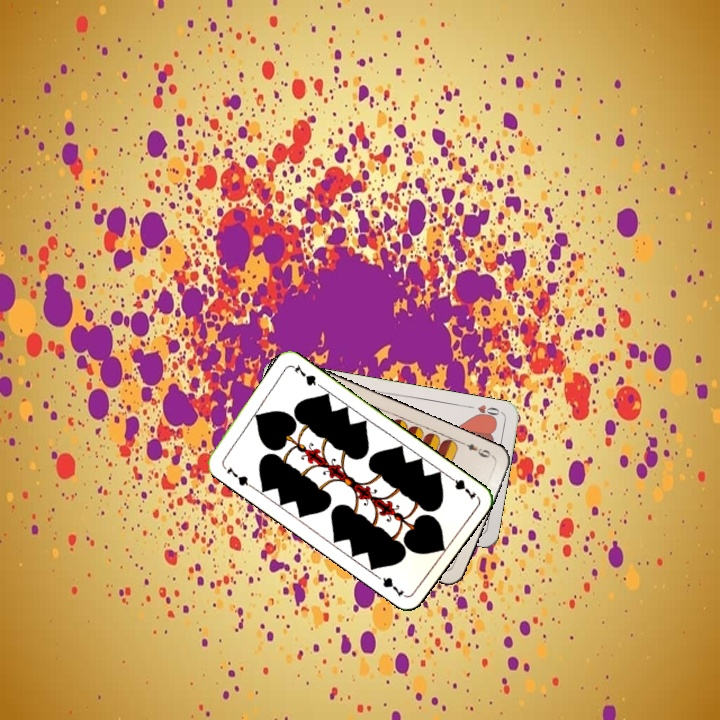E9: (458, 438, 496, 461)
G7: (443, 471, 479, 502), (219, 461, 254, 489)
HO: (463, 400, 504, 422)
